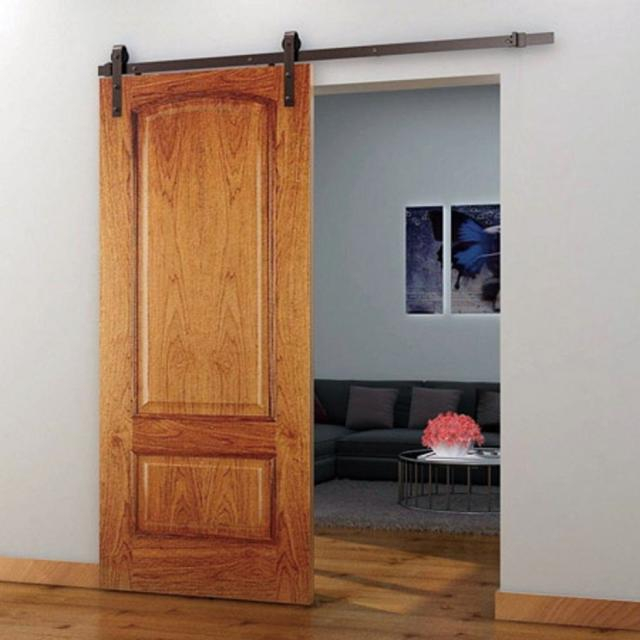door: (97, 58, 315, 605)
